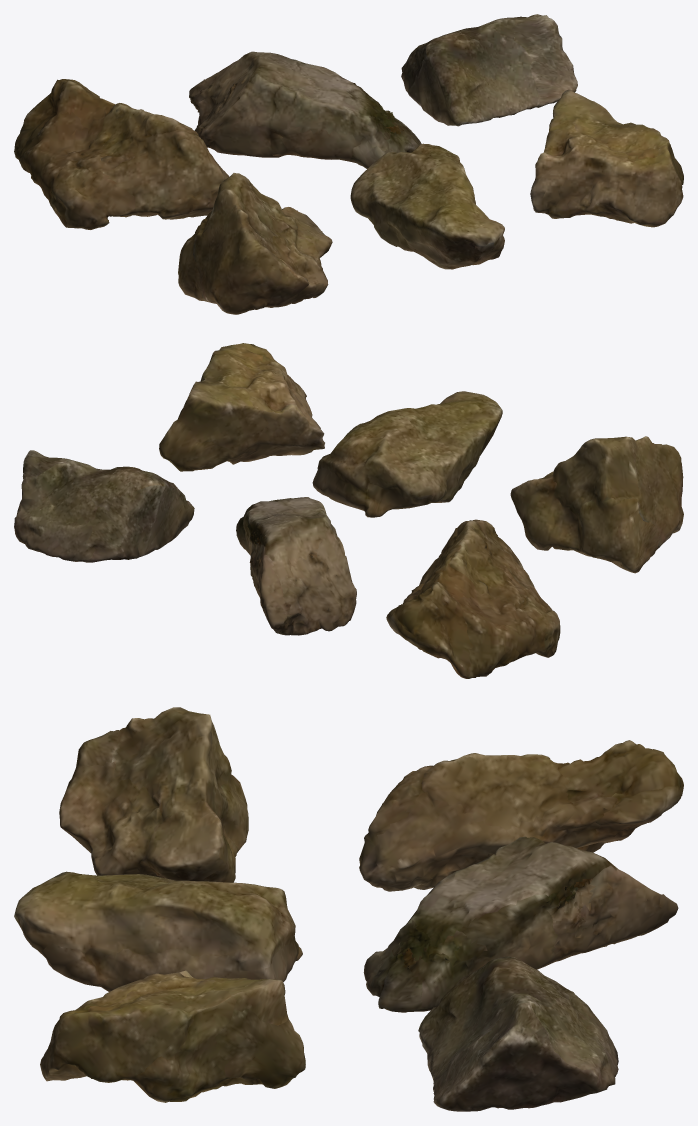
The model's file is rock_moss_set_01.glb.
3 renders of one model, top to bottom at view 1: azimuth 30°, elevation 25°; view 2: azimuth 150°, elevation 25°; view 3: azimuth 270°, elevation 25°, orthographic. The views are drawn at different scales.
Parts seen in each view (by area): view 1: rock_moss_set_01_rock01; view 2: rock_moss_set_01_rock01; view 3: rock_moss_set_01_rock01.
Part boxes in pixels (box(x1,y1,x2,y2)): rock_moss_set_01_rock01: box(14, 14, 683, 314); rock_moss_set_01_rock01: box(14, 343, 683, 678); rock_moss_set_01_rock01: box(14, 707, 683, 1111).
Bounding box in the file's own units: 8 × 1.77 × 6.95.
Materials: 1 (1 with a texture image).
